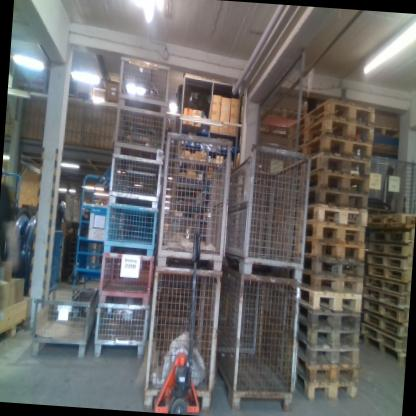pallet: (288, 93, 375, 125), (281, 120, 375, 147), (286, 137, 376, 162), (280, 155, 372, 179), (283, 173, 371, 197), (287, 192, 369, 214), (298, 363, 358, 386), (302, 294, 363, 316), (301, 314, 362, 336), (300, 346, 360, 368), (0, 313, 31, 355), (308, 243, 366, 265), (304, 276, 364, 297), (309, 209, 369, 228), (309, 226, 366, 246), (300, 332, 360, 351), (307, 261, 366, 280), (297, 384, 358, 401), (363, 321, 408, 339), (361, 335, 406, 352), (367, 228, 413, 244), (363, 308, 407, 324), (361, 350, 405, 366), (366, 256, 412, 271), (365, 281, 410, 296), (368, 214, 416, 228), (365, 294, 409, 309), (366, 243, 413, 257), (365, 270, 411, 283)
pallet_truck: (150, 229, 216, 415)
stillage: (139, 261, 227, 416), (223, 140, 316, 281), (217, 271, 304, 416), (157, 128, 235, 273), (28, 281, 98, 364), (93, 249, 156, 308), (91, 302, 150, 364), (115, 51, 173, 111), (102, 204, 159, 259), (106, 154, 164, 207), (109, 106, 167, 158)
